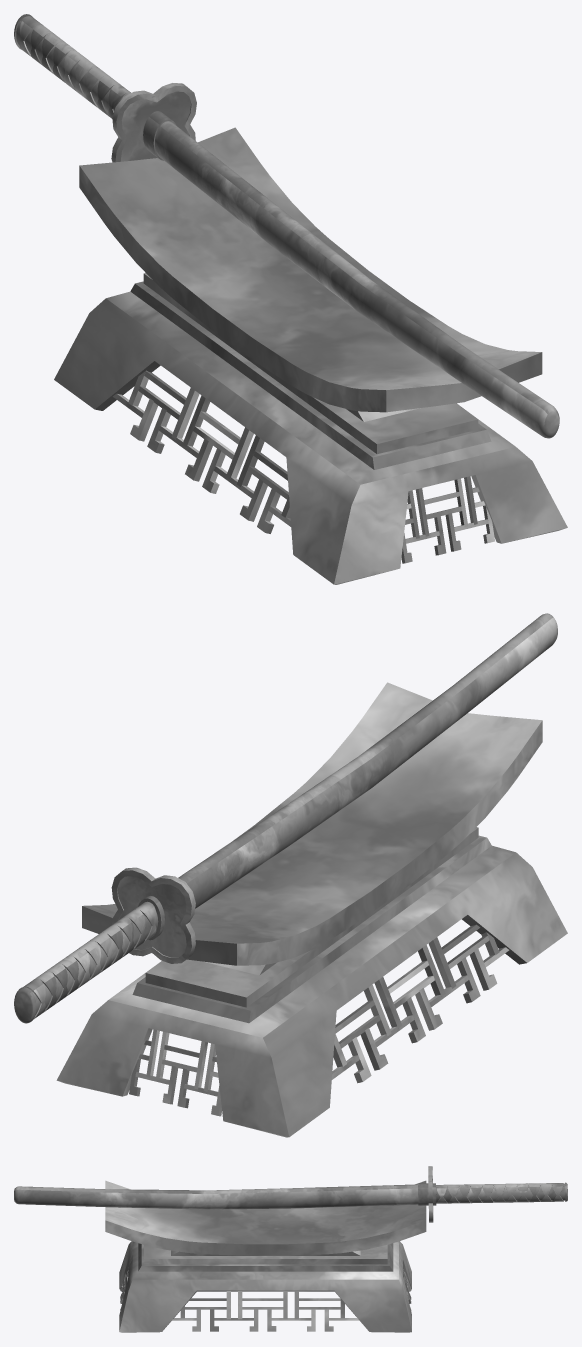
Rendered from sm_support_weapons_04.fbx.
The picture shows the model from 3 angles, top to bottom: view 1: azimuth 30°, elevation 25°; view 2: azimuth 150°, elevation 25°; view 3: azimuth 270°, elevation 25°; orthographic projection. The views are drawn at different scales.
Visible parts, largest first — view 1: sm_support_weapons_04; view 2: sm_support_weapons_04; view 3: sm_support_weapons_04.
Part boxes in pixels (<box>): sm_support_weapons_04: <box>14,14,567,584</box>; sm_support_weapons_04: <box>14,613,567,1137</box>; sm_support_weapons_04: <box>14,1166,567,1332</box>.
Bounding box in the file's own units: 37.16 × 146 × 38.46.
2 materials, 2 textured.
